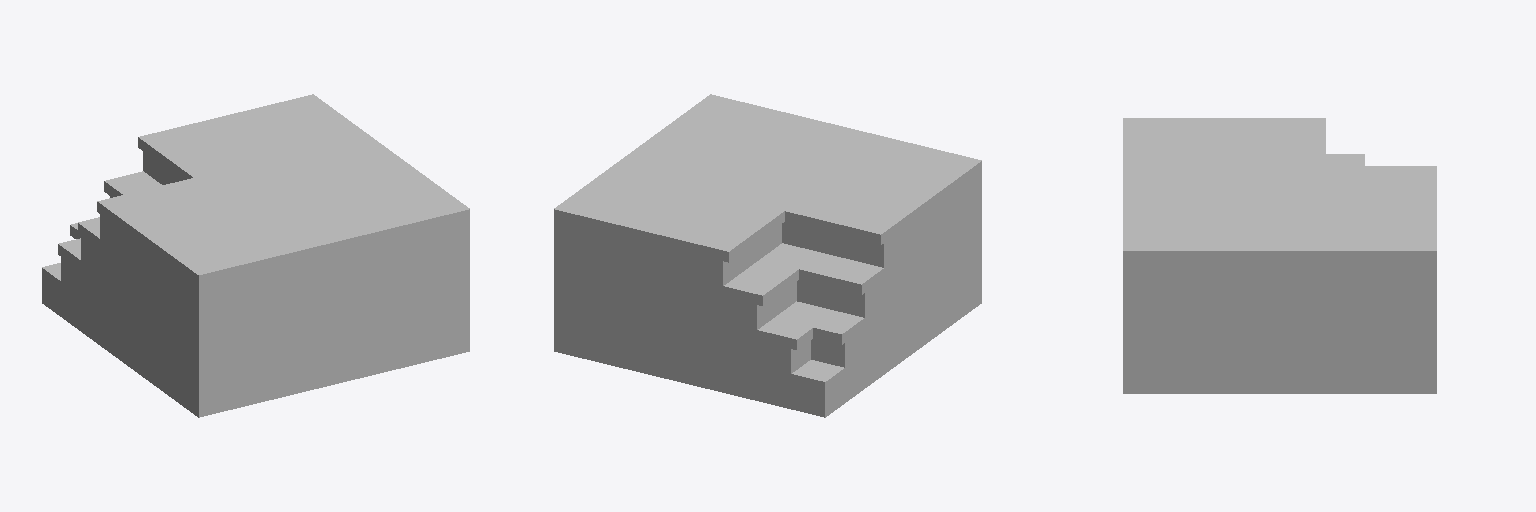
Rendered from stairs-full-corner-inner.obj.
3 views of the same model, side by side, from view 1: azimuth 30°, elevation 25°; view 2: azimuth 150°, elevation 25°; view 3: azimuth 270°, elevation 25° (orthographic).
Visible parts, largest first — view 1: stairs-full-corner-inner; view 2: stairs-full-corner-inner; view 3: stairs-full-corner-inner.
Boxes of the visible parts, box(x1,y1,x2,y2) form: stairs-full-corner-inner: box(42, 94, 469, 417); stairs-full-corner-inner: box(554, 94, 981, 417); stairs-full-corner-inner: box(1123, 118, 1436, 393).
Bounding box in the file's own units: 1 × 0.5 × 1.